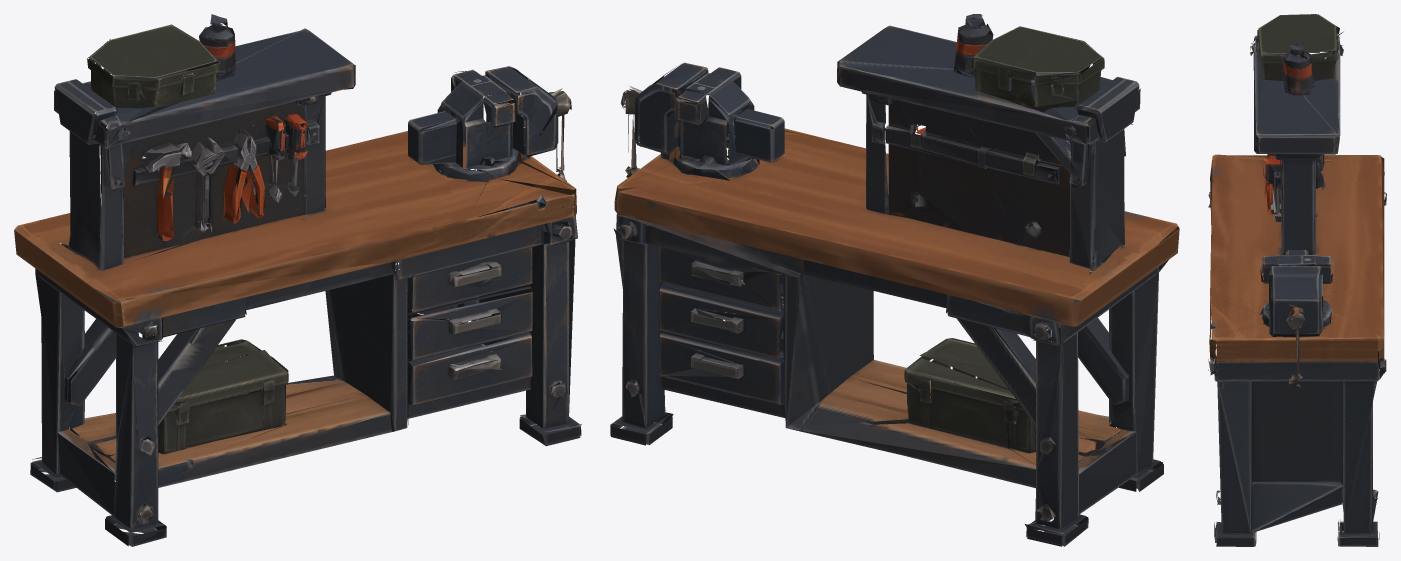
Rendered from workbench_iron_lod1.glb.
The picture shows the model from 3 angles, left to right: view 1: azimuth 30°, elevation 25°; view 2: azimuth 150°, elevation 25°; view 3: azimuth 270°, elevation 25°; orthographic projection. The views are drawn at different scales.
Visible parts, largest first — view 1: LOD1; view 2: LOD1; view 3: LOD1.
Part boxes in pixels (x1,y1,x2,y2): LOD1: [14, 14, 581, 546]; LOD1: [610, 14, 1179, 546]; LOD1: [1208, 14, 1386, 546].
Size of the model in its own units: 1.82 by 1.59 by 0.678.
1 material, 1 textured.
